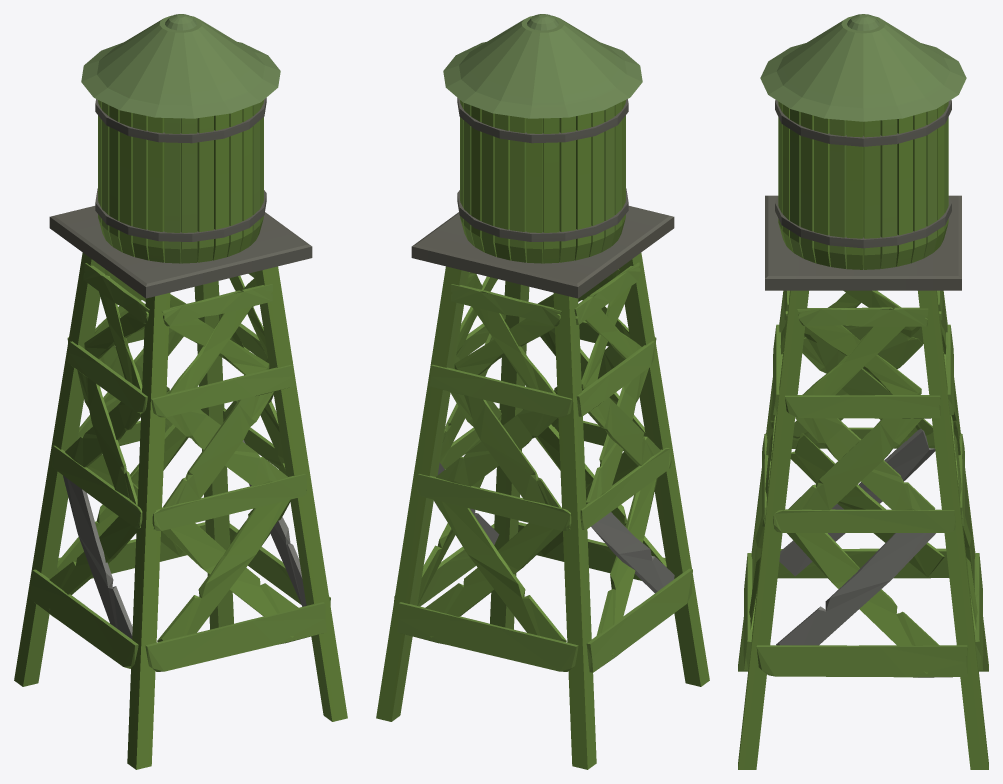
File: WaterBarrel_01.fbx
3 renders of one model, left to right at view 1: azimuth 30°, elevation 25°; view 2: azimuth 150°, elevation 25°; view 3: azimuth 270°, elevation 25°, orthographic. The views are drawn at different scales.
Visible parts, largest first — view 1: WaterBarrel_01; view 2: WaterBarrel_01; view 3: WaterBarrel_01.
Part boxes in pixels (x1,y1,x2,y2): WaterBarrel_01: (14,14,347,769); WaterBarrel_01: (376,14,709,769); WaterBarrel_01: (738,14,988,769).
Size of the model in its own units: 2.05 by 6.32 by 2.05.
